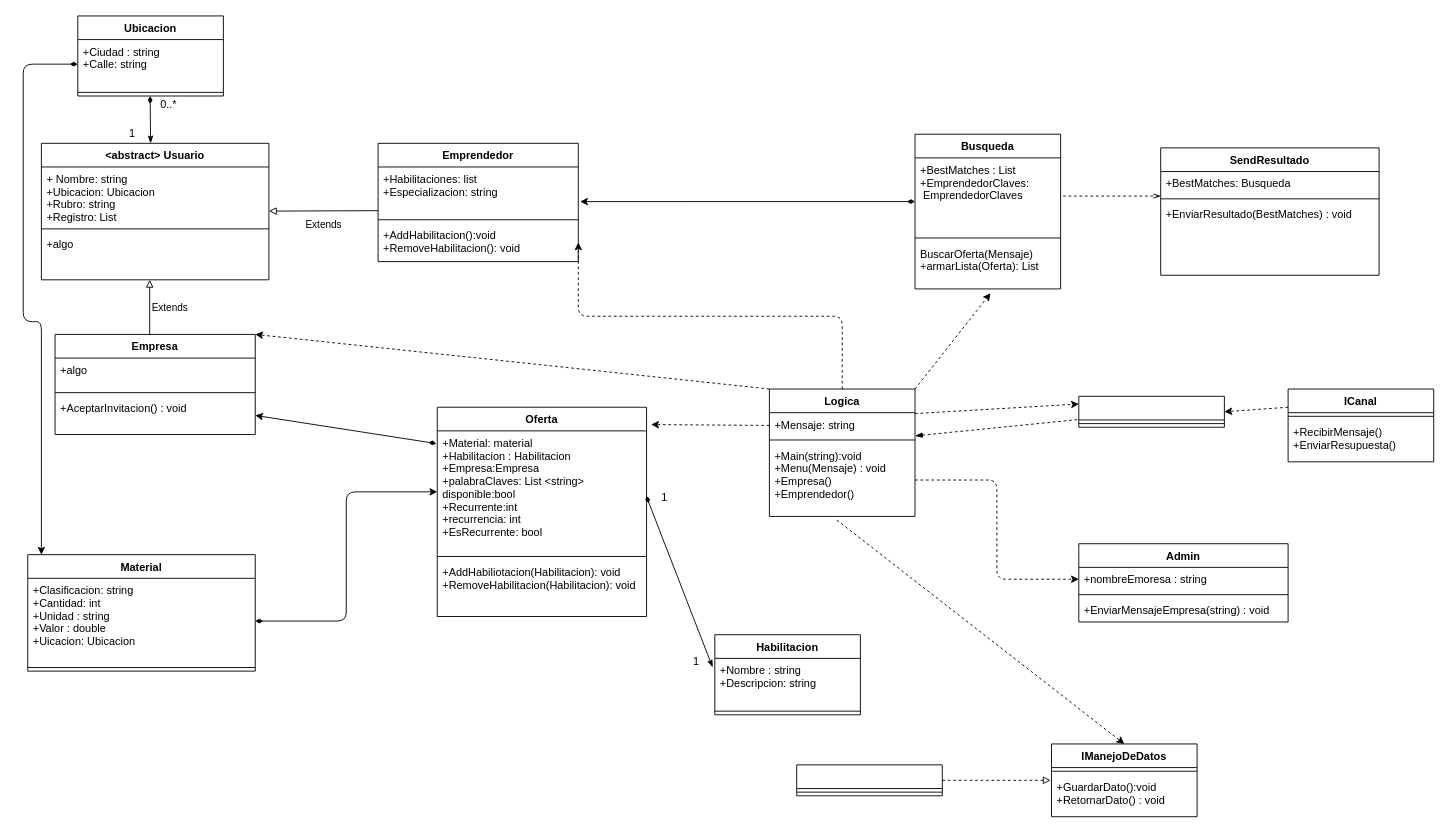
Image size: 1450x835. Some labels were removed from this diagram. The shapes that lost their labels are listed below. From the top down, each one's centre as x and y in pixels, then its label:
point (1151, 411): ChatBot
point (869, 780): BaseDeDatos
